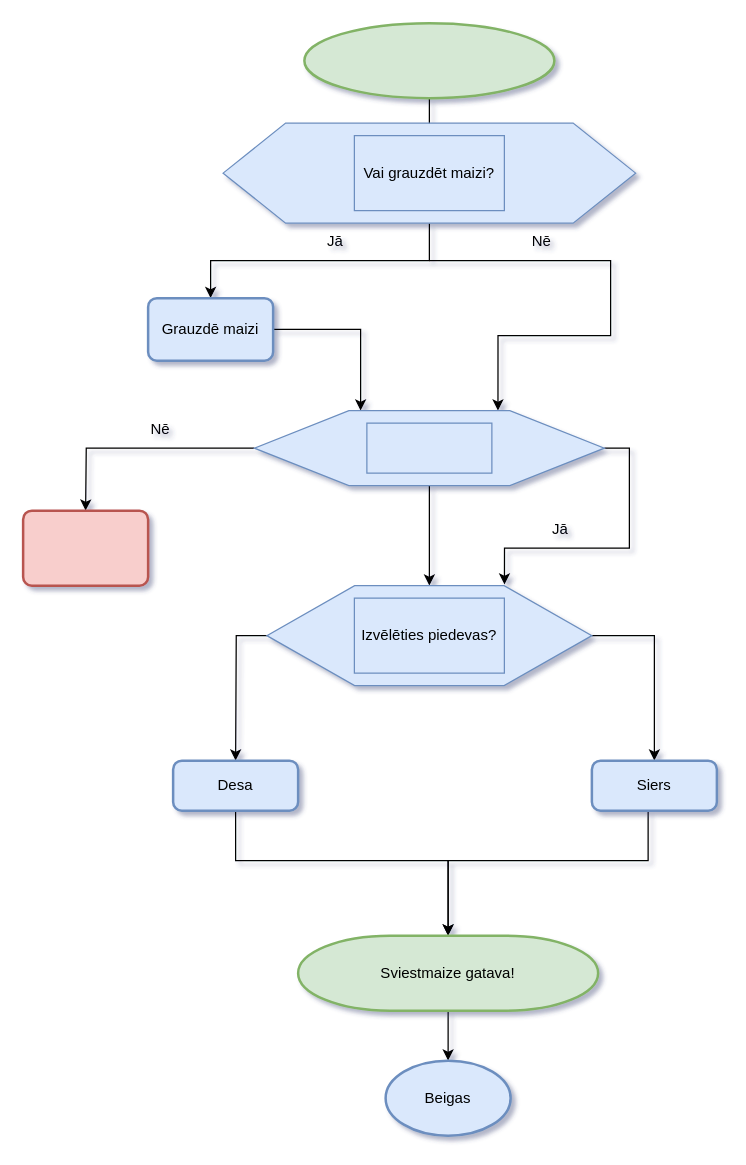
Some shapes in this 746 by 1165 pixel diagram are drawn without their labels. Each missing label, with the centre of its shape:
BEIGT: point 85,547
Sākums: point 428,60
Uzsmērēt sviestu?: point 429,447
